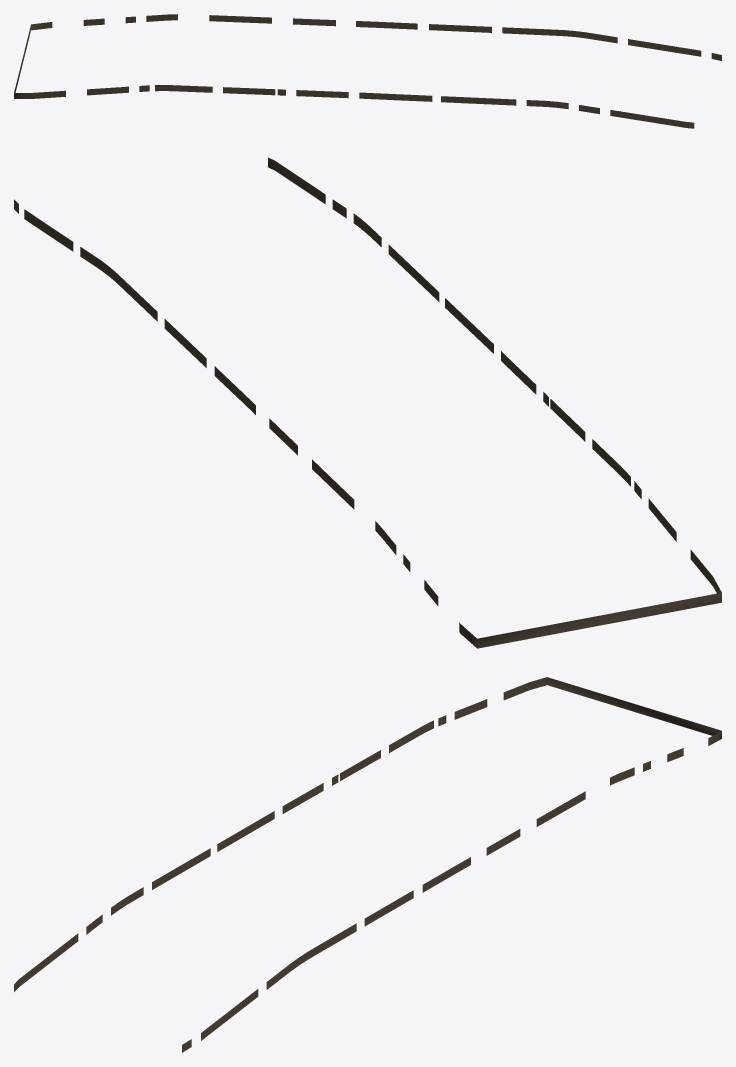
The picture shows the model from 3 angles, top to bottom: view 1: azimuth 30°, elevation 25°; view 2: azimuth 150°, elevation 25°; view 3: azimuth 270°, elevation 25°; orthographic projection. The views are drawn at different scales.
Parts seen in each view (by area): view 1: prototype; view 2: prototype; view 3: prototype.
Boxes of the visible parts, x1,y1,x2,y2 form: prototype: (14,14,721,128); prototype: (14,157,721,648); prototype: (14,677,721,1052).
Size of the model in its own units: 31.26 by 1.21 by 25.44.
